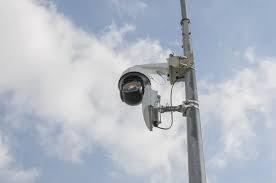Speed-Camera: (113, 51, 171, 134)
